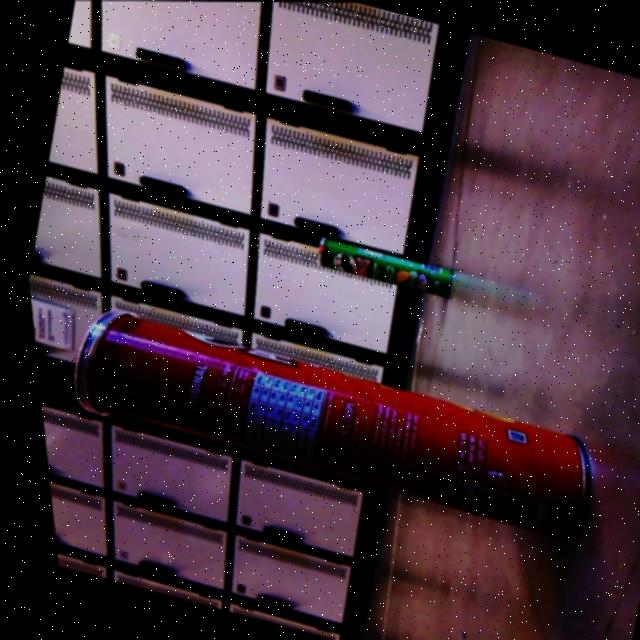greenpringles: (302, 230, 458, 309)
redpringles: (35, 292, 611, 557)
